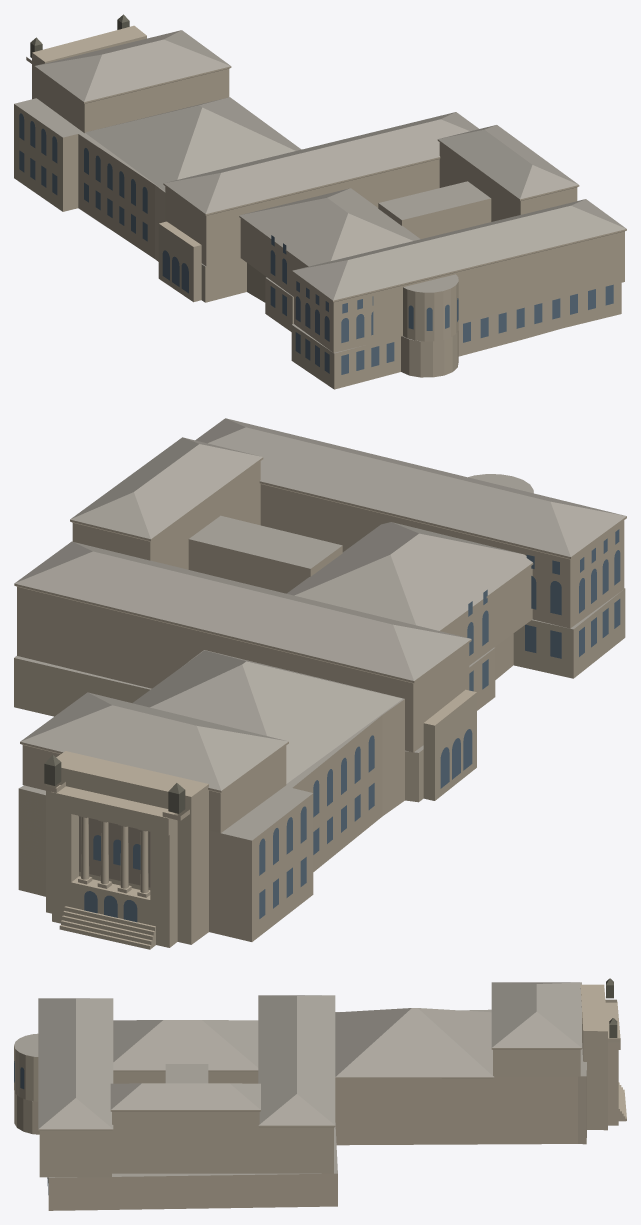
File: pit-carnegie-library-music-hall.glb
3 views of the same model, one above another, from view 1: azimuth 30°, elevation 25°; view 2: azimuth 150°, elevation 25°; view 3: azimuth 270°, elevation 25° (orthographic). The views are drawn at different scales.
Visible parts, largest first — view 1: Carnegie Library and Music Hall; view 2: Carnegie Library and Music Hall; view 3: Carnegie Library and Music Hall.
Boxes of the visible parts, <box> form: Carnegie Library and Music Hall: <box>14,14,626,389</box>; Carnegie Library and Music Hall: <box>14,418,626,949</box>; Carnegie Library and Music Hall: <box>14,978,626,1210</box>.
Size of the model in its own units: 78 by 29.5 by 143.
